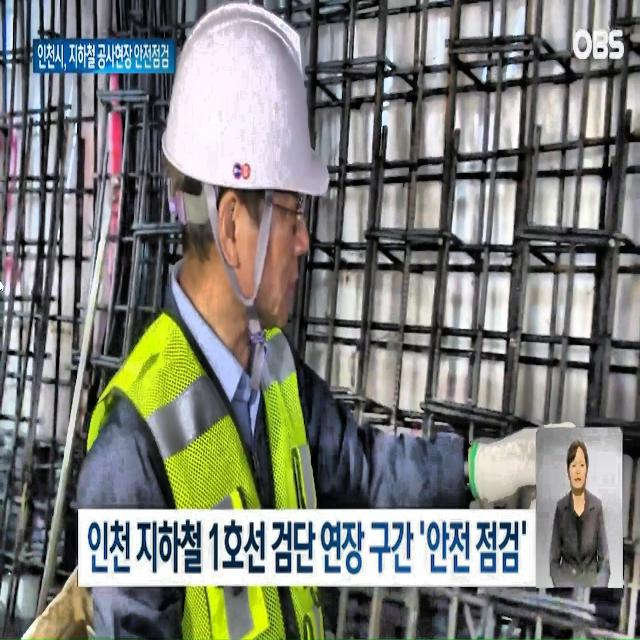safety_helmet: (156, 0, 334, 212)
safety_jacket: (83, 295, 327, 640)
